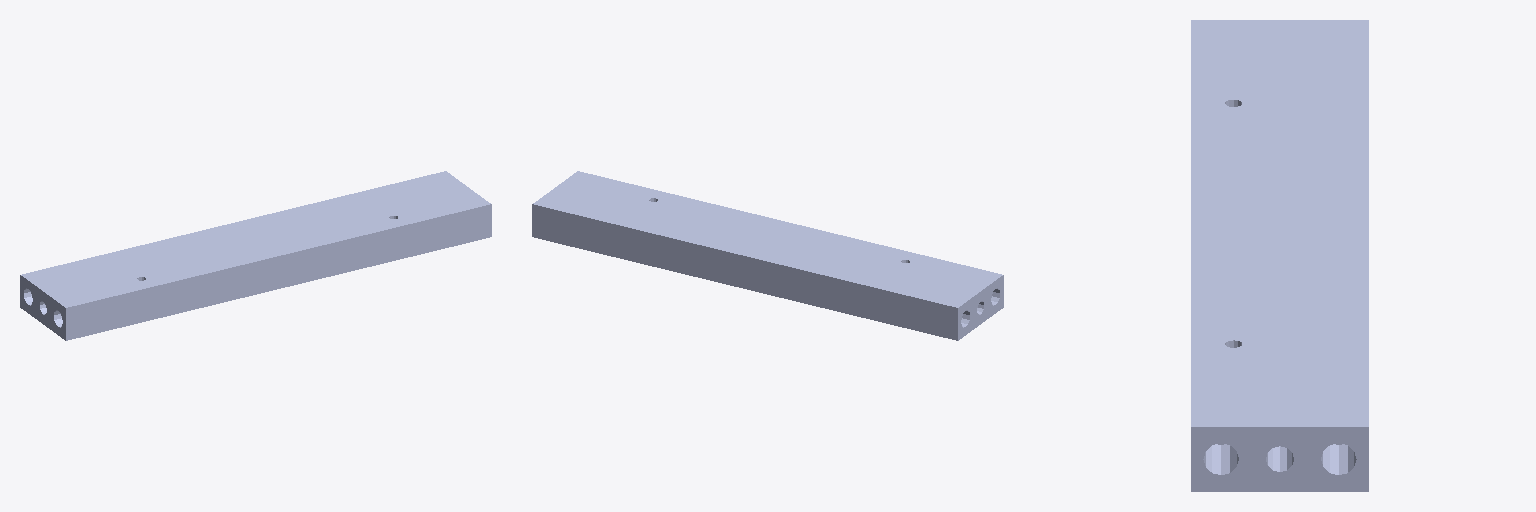
robot.urdf — part3.SLDPRT:
<?xml version="1.0" encoding="utf-8"?>
<!-- This URDF was automatically created by SolidWorks to URDF Exporter! Originally created by [author] ([email redacted]) 
     Commit Version: 1.5.1-0-g916b5db  Build Version: 1.5.7152.31018
     For more information, please see http://wiki.ros.org/sw_urdf_exporter -->
<robot
  name="part3.SLDPRT">
  <link
    name="part3.SLDPRT">
    <inertial>
      <origin
        xyz="-1.6524E-18 1.9536E-05 0.0099925"
        rpy="0 0 0" />
      <mass
        value="0.26131" />
      <inertia
        ixx="6.3365E-05"
        ixy="-1.8215E-20"
        ixz="1.4204E-20"
        iyy="0.0015168"
        iyz="2.5564E-08"
        izz="0.0015623" />
    </inertial>
    <visual>
      <origin
        xyz="0 0 0"
        rpy="0 0 0" />
      <geometry>
        <mesh
          filename="package://part3.SLDPRT/meshes/part3.SLDPRT.STL" />
      </geometry>
      <material
        name="">
        <color
          rgba="0.79216 0.81961 0.93333 1" />
        <texture
          filename="package://part3.SLDPRT/textures/" />
      </material>
    </visual>
    <collision>
      <origin
        xyz="0 0 0"
        rpy="0 0 0" />
      <geometry>
        <mesh
          filename="package://part3.SLDPRT/meshes/part3.SLDPRT.STL" />
      </geometry>
    </collision>
  </link>
</robot>

--- What the picture shows (computed from the rendered views, not written in the file) ---
The picture shows the robot from 3 angles, left to right: view 1: azimuth 30°, elevation 25°; view 2: azimuth 150°, elevation 25°; view 3: azimuth 270°, elevation 25°; orthographic projection.
Model part3.SLDPRT with 1 links and 0 joints (none), rooted at part3.SLDPRT, posed all joints at 0.
Visible links, largest first — view 1: part3.SLDPRT; view 2: part3.SLDPRT; view 3: part3.SLDPRT.
Boxes of the visible links, x1=… form: part3.SLDPRT: x1=20, y1=171, x2=491, y2=340; part3.SLDPRT: x1=532, y1=171, x2=1003, y2=340; part3.SLDPRT: x1=1191, y1=20, x2=1368, y2=491.
Size in the robot's own frame: 0.27 by 0.05 by 0.02 metres.
1 mesh visuals loaded from 1 distinct referenced files (1 binary STL).